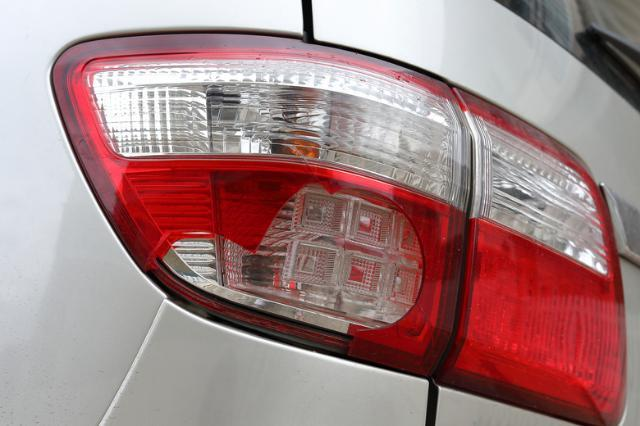Light: (157, 144, 434, 366)
